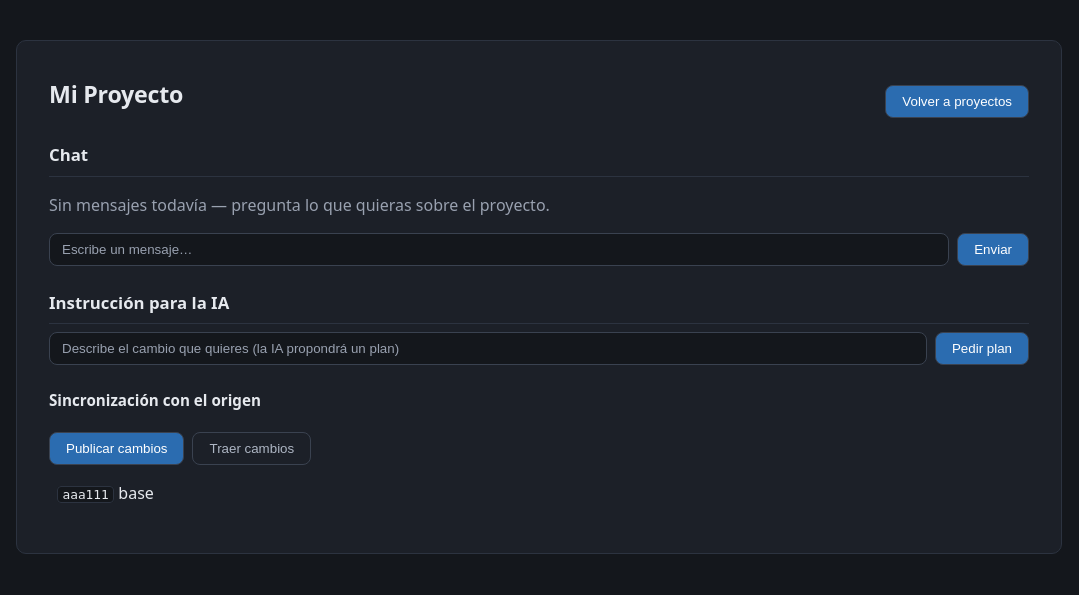
Scenario: VistaWorkspace › panel de git (Fase 3: workspace clonado de un remoto) › push rechazado sugiere traer cambios; pull con conflicto muestra los archivos
Expected: the element with test id "panel-git" is shown, [49,390,311,504]
Click the button "Publicar cambios" at point(117, 448), box [49,432,184,465]
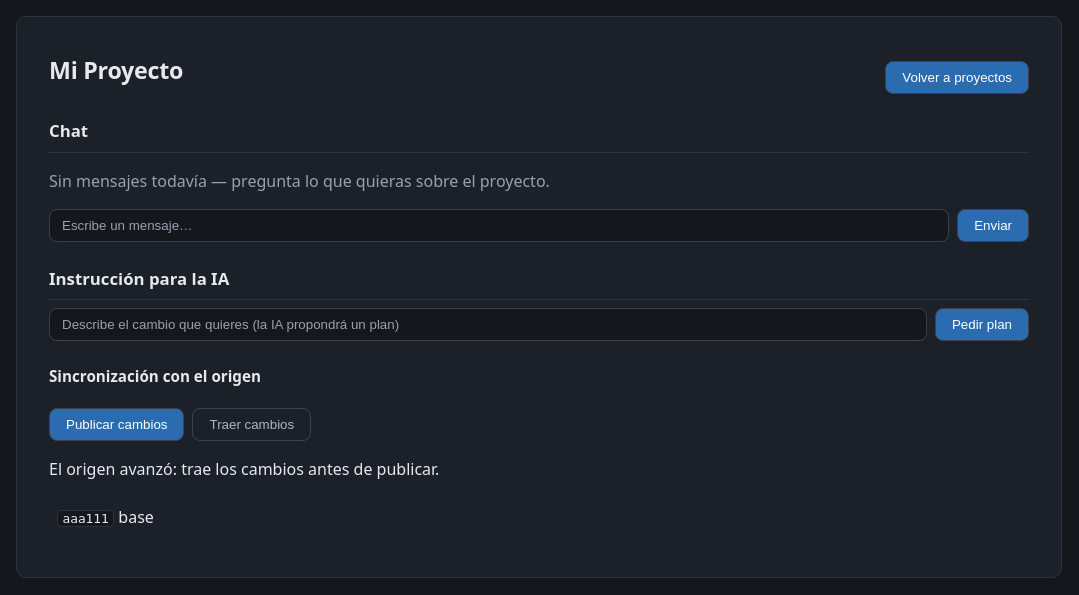
Now the text "El origen avanzó: trae los cambios antes de publicar." is shown, box [49,458,439,480]
Click the button "Traer cambios" at point(252, 424), box [192,408,311,441]
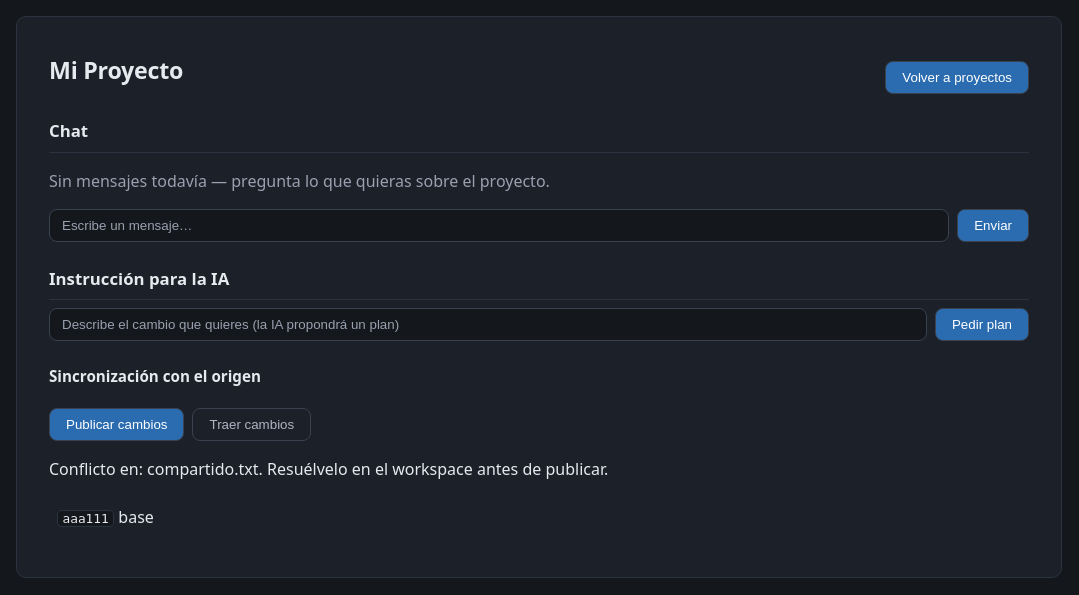
Now the text "Conflicto en: compartido.txt. Resuélvelo en el workspace antes de publicar." is shown, box [49,458,608,480]
